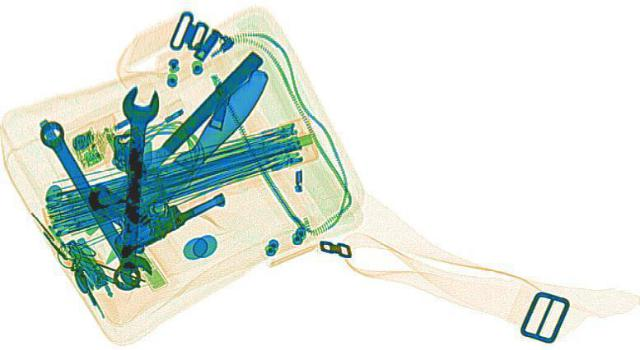Gun: (34, 155, 236, 257)
Knife: (88, 65, 280, 265), (80, 50, 268, 226)
Wrench: (26, 118, 162, 288), (106, 85, 162, 289)
